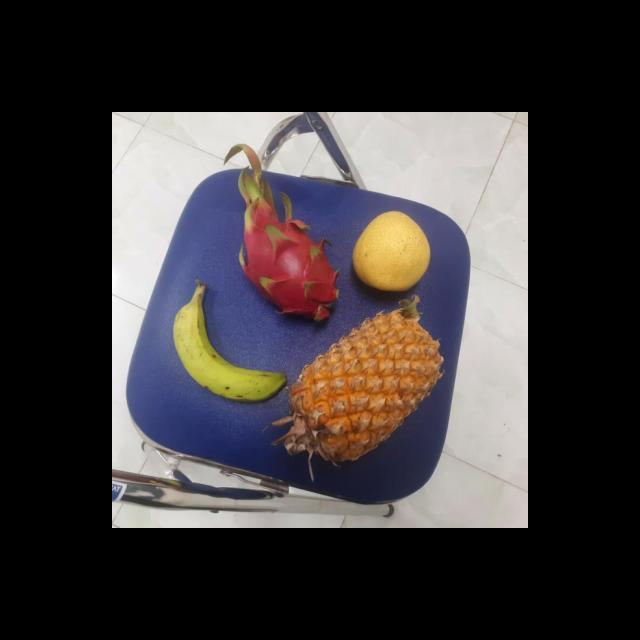banana: (170, 286, 285, 404)
pear: (349, 212, 430, 295)
pineapple: (280, 308, 435, 462)
pitaya: (240, 212, 340, 322)
